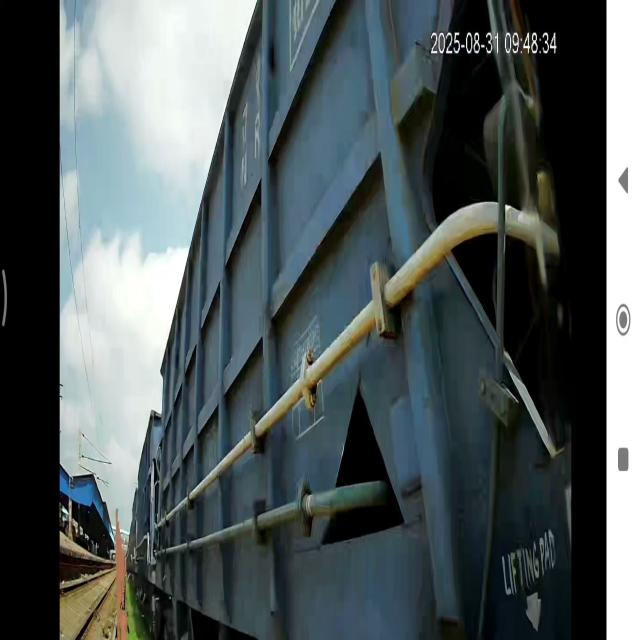coach: (153, 0, 561, 640)
